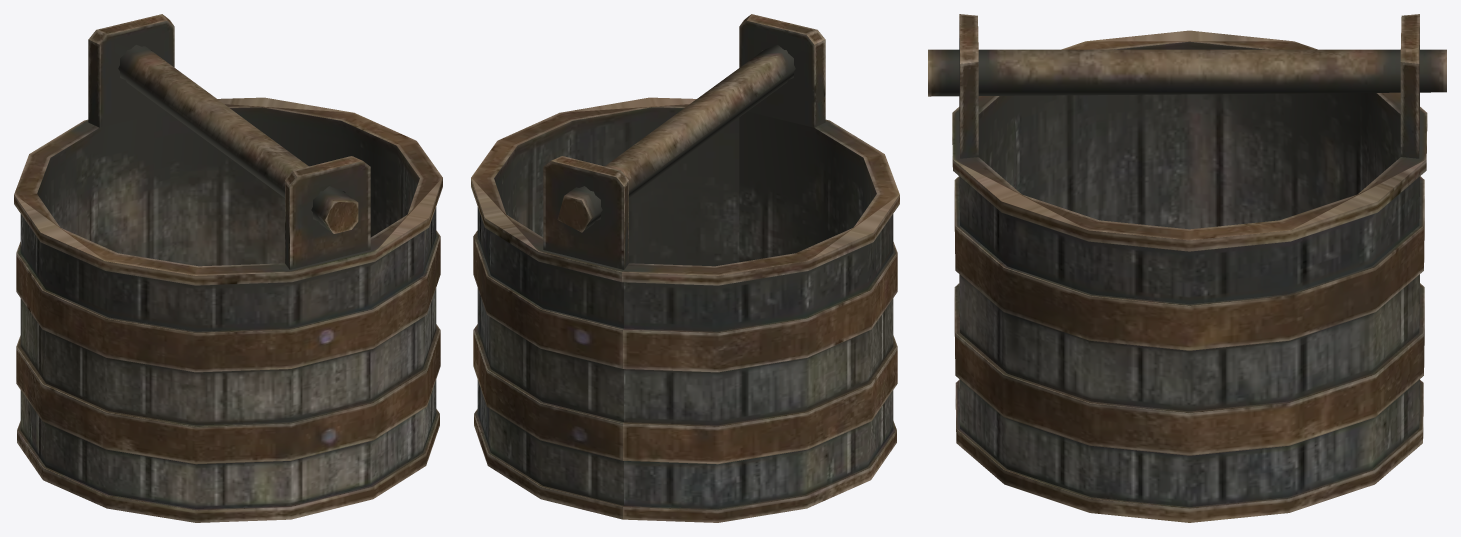
Rendered from bucket_b.glb.
The picture shows the model from 3 angles, left to right: view 1: azimuth 30°, elevation 25°; view 2: azimuth 150°, elevation 25°; view 3: azimuth 270°, elevation 25°; orthographic projection. The views are drawn at different scales.
Visible parts, largest first — view 1: 01_01_0; view 2: 01_01_0; view 3: 01_01_0.
Boxes of the visible parts, <box> form: 01_01_0: <box>14,14,442,522</box>; 01_01_0: <box>471,14,899,522</box>; 01_01_0: <box>928,14,1446,522</box>.
Bounding box in the file's own units: 0.5265 × 0.4535 × 0.55.
Materials: 1 (1 with a texture image).
